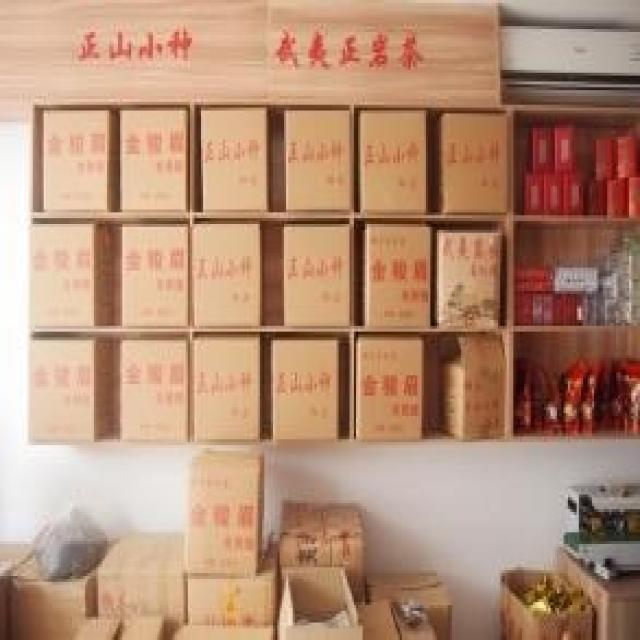box: (9, 532, 127, 640), (96, 529, 186, 640), (186, 448, 264, 576), (280, 500, 365, 605), (183, 535, 280, 625), (31, 221, 114, 326), (31, 337, 114, 442), (498, 561, 594, 640), (559, 547, 640, 640), (435, 111, 507, 215), (194, 332, 262, 442), (282, 221, 352, 326), (120, 340, 190, 445), (439, 335, 507, 442), (356, 335, 424, 442), (42, 111, 116, 209), (120, 224, 188, 329), (192, 224, 262, 326), (271, 337, 339, 442), (284, 108, 352, 212), (201, 108, 271, 209), (360, 108, 426, 215), (365, 224, 432, 329), (363, 564, 454, 640), (120, 111, 188, 209), (435, 230, 502, 329), (275, 567, 365, 640), (354, 596, 439, 640), (74, 614, 168, 640), (168, 623, 277, 640), (607, 236, 640, 282), (0, 538, 35, 579), (515, 291, 555, 326), (596, 268, 620, 326), (555, 265, 601, 294), (529, 125, 555, 175), (553, 122, 577, 175), (614, 134, 638, 180), (592, 137, 616, 180), (618, 282, 640, 326), (522, 175, 544, 215), (542, 175, 564, 215), (564, 172, 583, 215), (577, 291, 598, 326), (607, 180, 627, 215), (590, 180, 607, 215), (515, 265, 555, 279), (513, 279, 555, 291), (627, 177, 640, 215), (564, 291, 577, 326), (553, 291, 564, 326)
